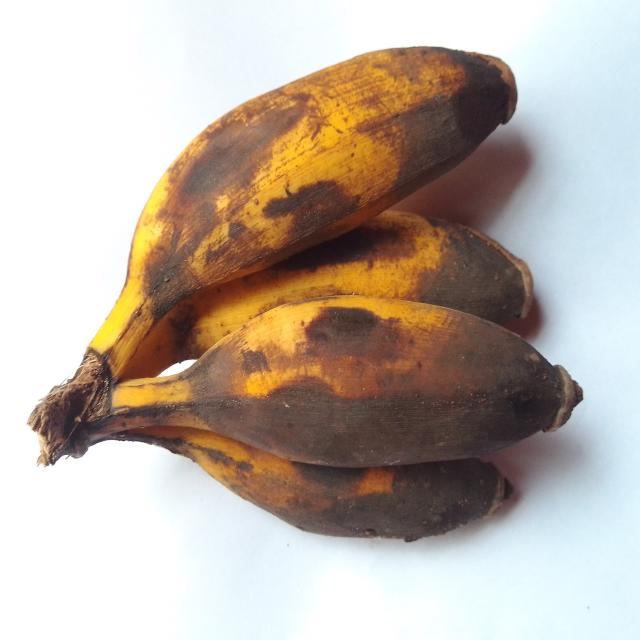banana: (29, 48, 516, 464), (75, 296, 581, 467), (123, 211, 532, 379), (112, 427, 510, 541)
